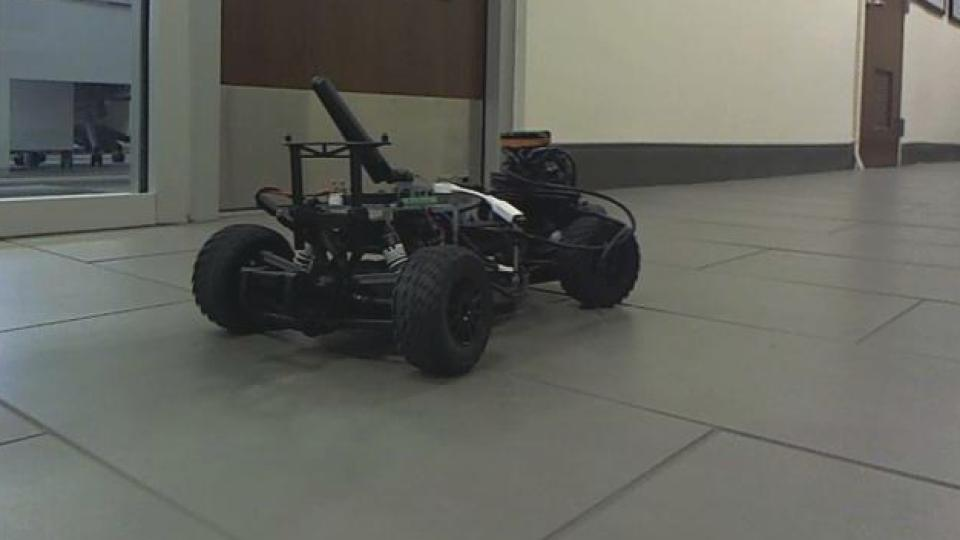car: (189, 72, 644, 379)
